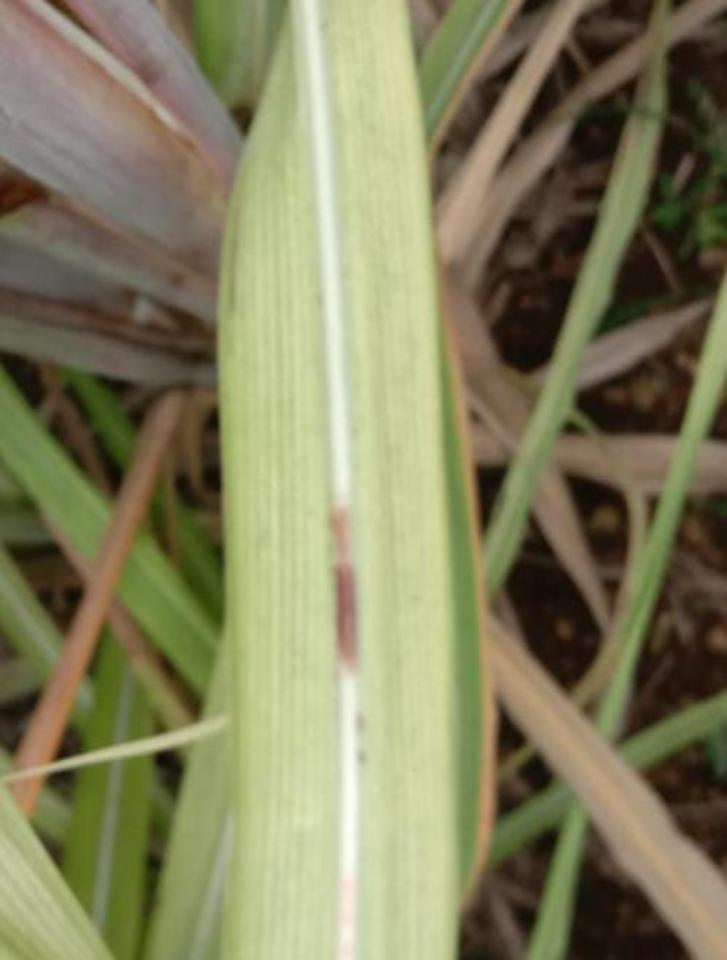RedRot: (327, 504, 358, 678)
